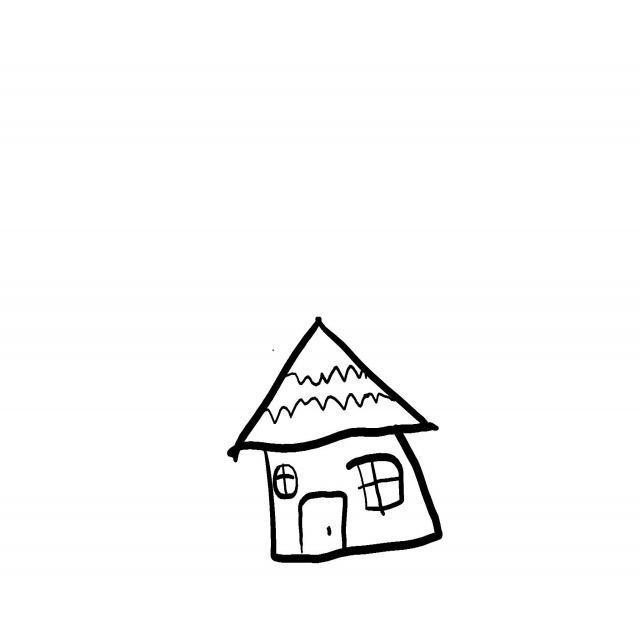door: (301, 492, 342, 554)
house: (228, 318, 443, 564)
roof: (232, 319, 435, 453)
wall: (265, 426, 445, 564)
window: (355, 455, 403, 513), (277, 464, 300, 498)
